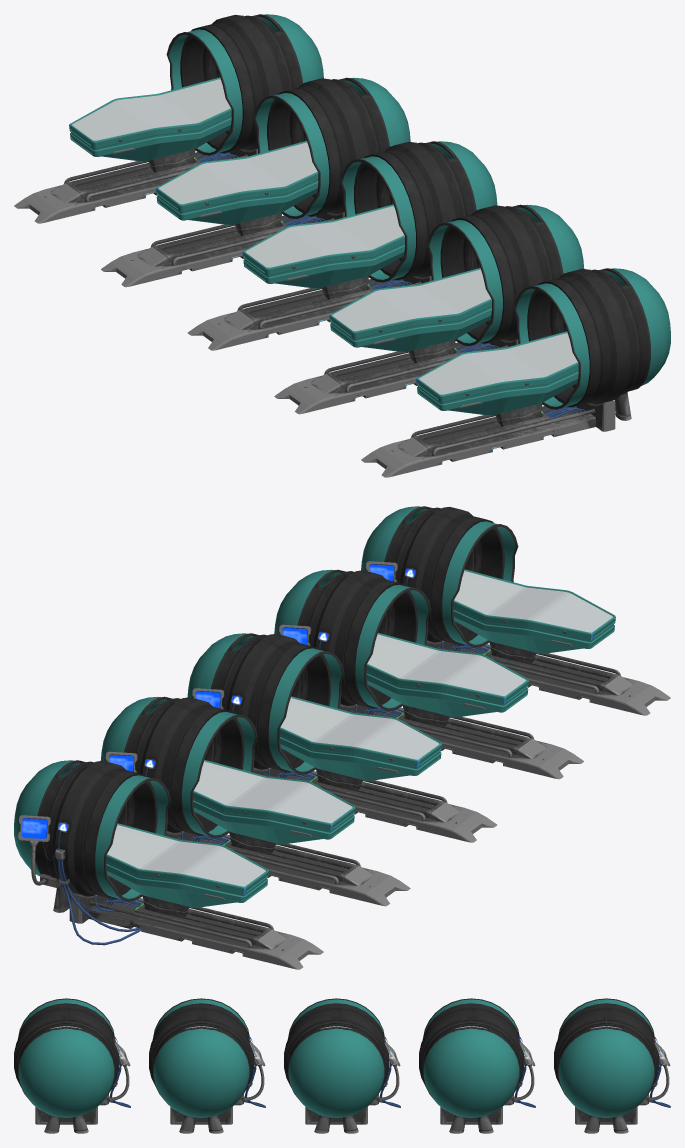
The model's file is Zona04Objetos01.fbx.
3 views of the same model, one above another, from view 1: azimuth 30°, elevation 25°; view 2: azimuth 150°, elevation 25°; view 3: azimuth 270°, elevation 25° (orthographic). The views are drawn at different scales.
Parts seen in each view (by area): view 1: Zona04Objetos03; view 2: Zona04Objetos03; view 3: Zona04Objetos03.
Boxes of the visible parts, left/top/right/bottom form: Zona04Objetos03: left=14, top=14, right=670, bottom=477; Zona04Objetos03: left=14, top=506, right=670, bottom=969; Zona04Objetos03: left=14, top=998, right=670, bottom=1133.
Bounding box in the file's own units: 336 × 157 × 852.
